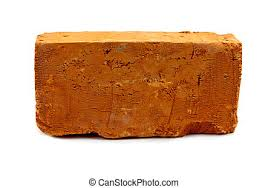brick: (35, 32, 237, 133)
